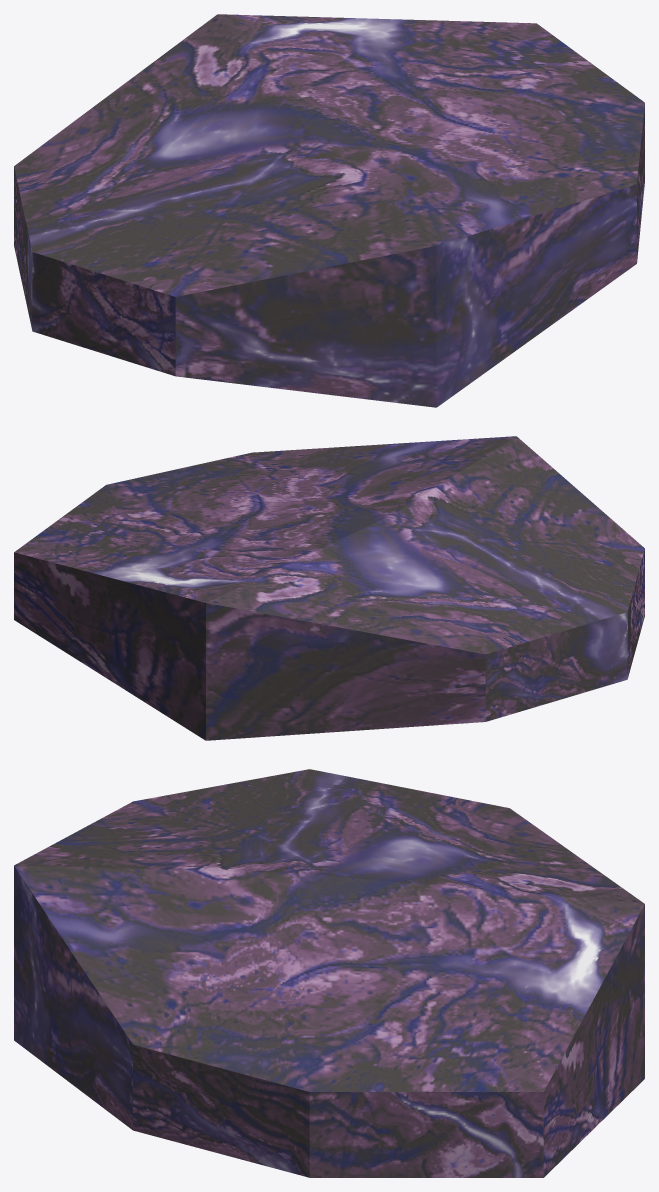
The model's file is Sea_Large_Rock1_SM.fbx.
3 renders of one model, top to bottom at view 1: azimuth 30°, elevation 25°; view 2: azimuth 150°, elevation 25°; view 3: azimuth 270°, elevation 25°, orthographic. The views are drawn at different scales.
Visible parts, largest first — view 1: Sea_Large_Rock1_SM; view 2: Sea_Large_Rock1_SM; view 3: Sea_Large_Rock1_SM.
Part boxes in pixels (x1,y1,x2,y2): Sea_Large_Rock1_SM: [14, 14, 644, 407]; Sea_Large_Rock1_SM: [14, 436, 644, 740]; Sea_Large_Rock1_SM: [14, 769, 644, 1177].
Bounding box in the file's own units: 864 × 218 × 714.
1 material, 1 textured.
